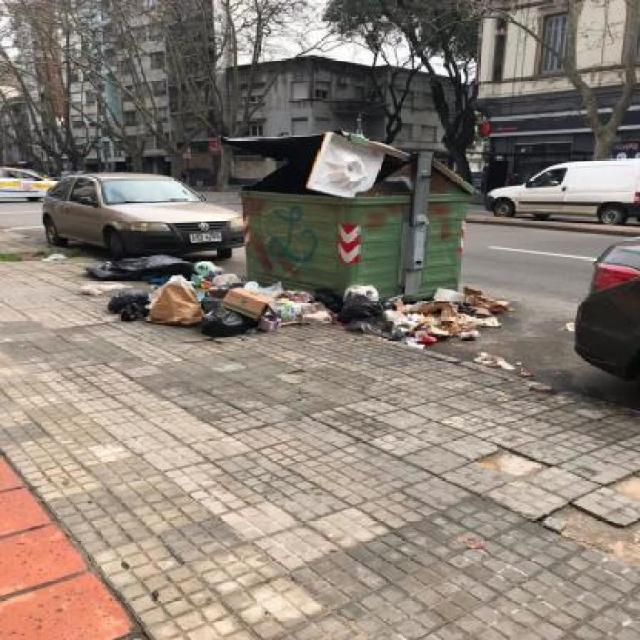garbage: (79, 242, 372, 351), (311, 274, 540, 365), (303, 125, 374, 209)
